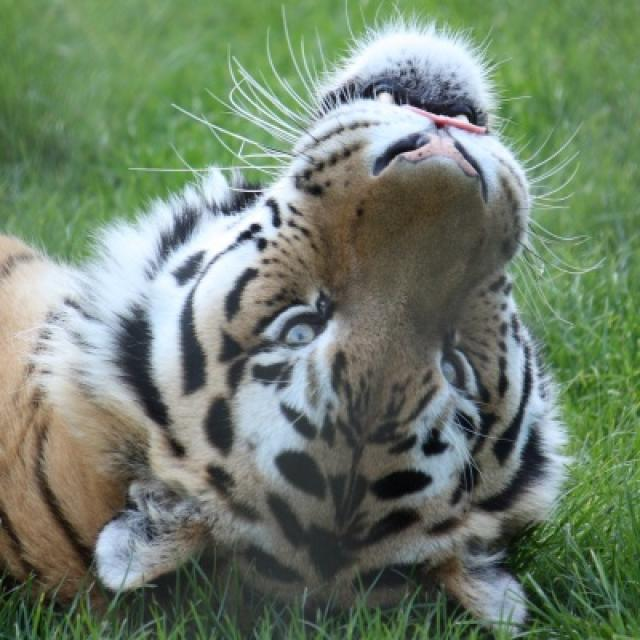Tiger: (1, 17, 567, 633)
